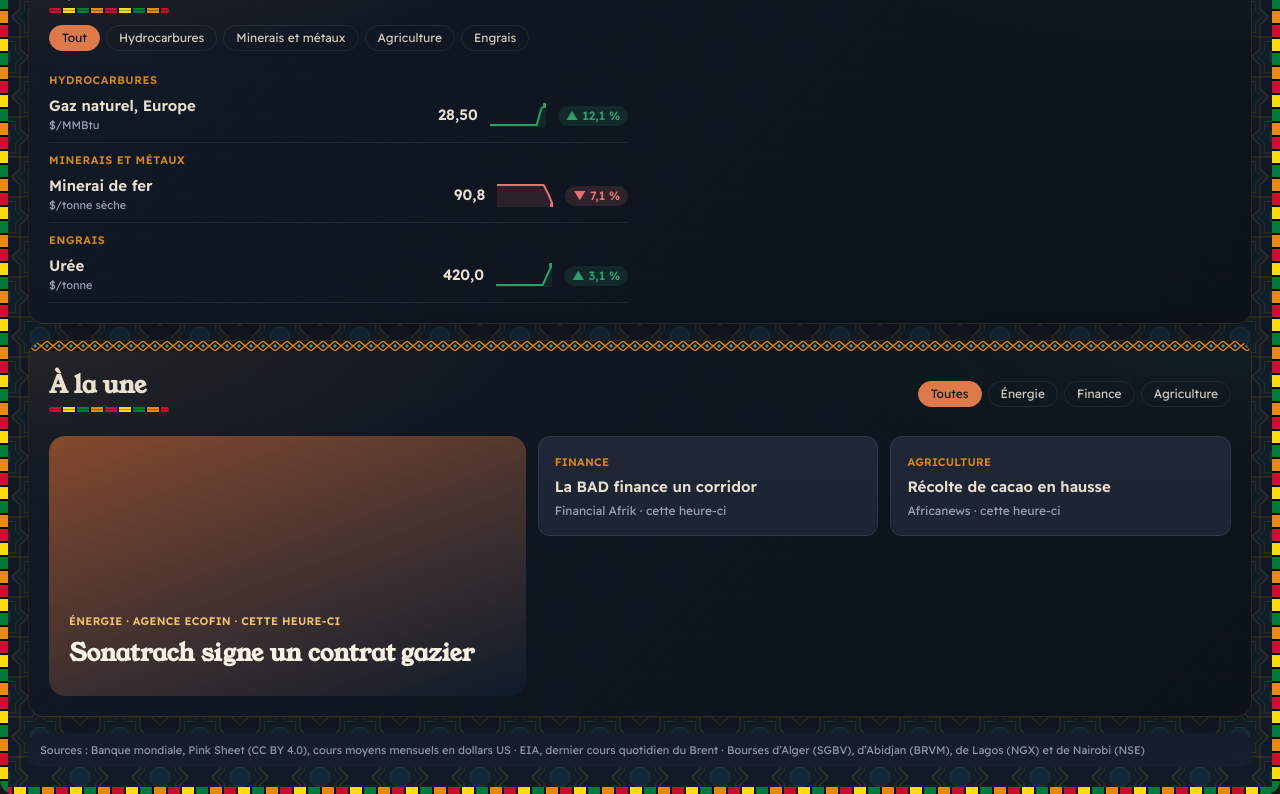
Test case: TableauManager › fait défiler les dépêches et met un article à la une, filtrable par rubrique
The image size is (1280, 794).
(page scrolled)
Expected: the link with test id "article-une" shows "Sonatrach", left=49, top=436, right=526, bottom=696
Click the button "Finance" at (1099, 394), box left=1064, top=381, right=1135, bottom=407
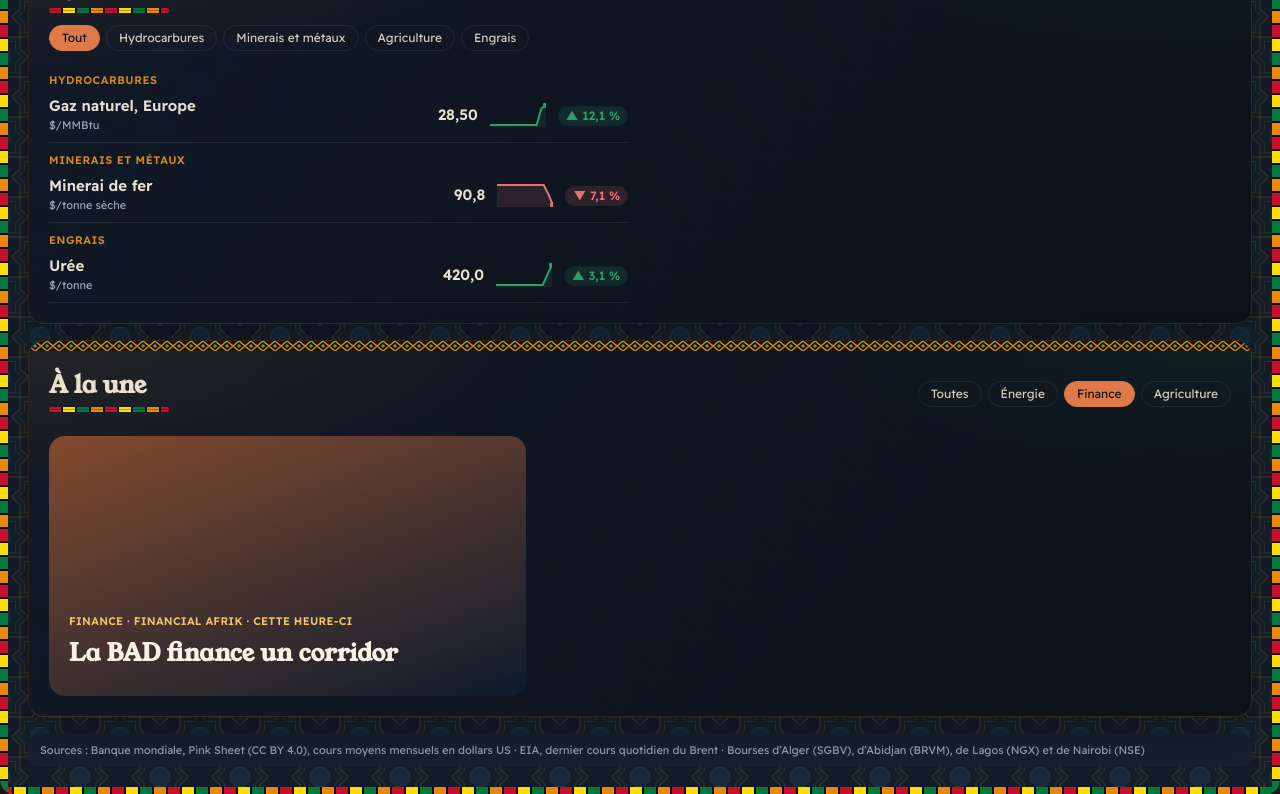
Result: the link with test id "article-une" shows "La BAD finance" at left=49, top=436, right=526, bottom=696
